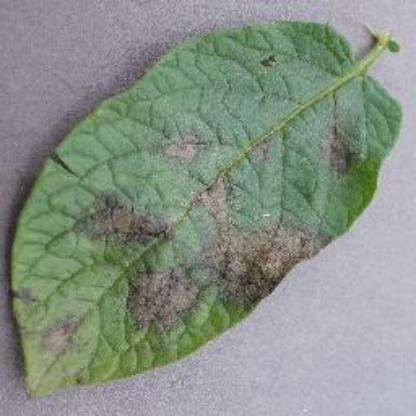Late-Blight: (8, 9, 408, 401)
